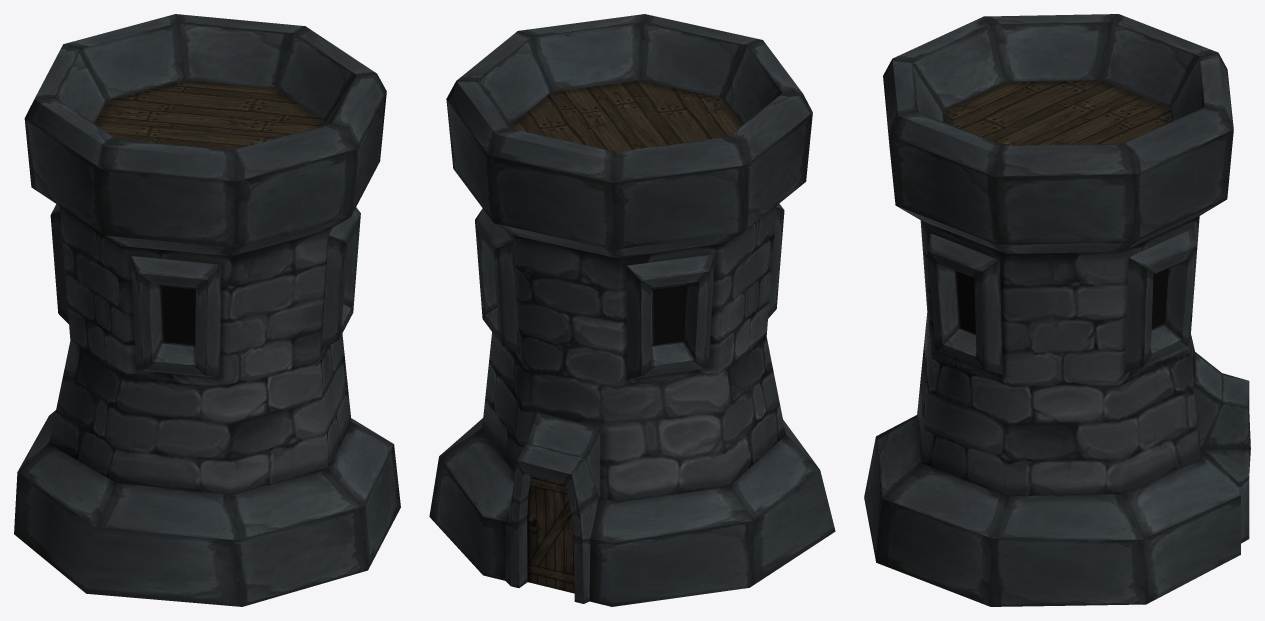
The model's file is cp_tower1.FBX.
3 views of the same model, side by side, from view 1: azimuth 30°, elevation 25°; view 2: azimuth 150°, elevation 25°; view 3: azimuth 270°, elevation 25° (orthographic).
Visible parts, largest first — view 1: medieval_tower002; view 2: medieval_tower002; view 3: medieval_tower002.
Part boxes in pixels (left/top/right/bottom): medieval_tower002: left=14, top=14, right=400, bottom=606; medieval_tower002: left=429, top=14, right=835, bottom=606; medieval_tower002: left=864, top=14, right=1250, bottom=606.
Bounding box in the file's own units: 41.09 × 52.76 × 41.78.
